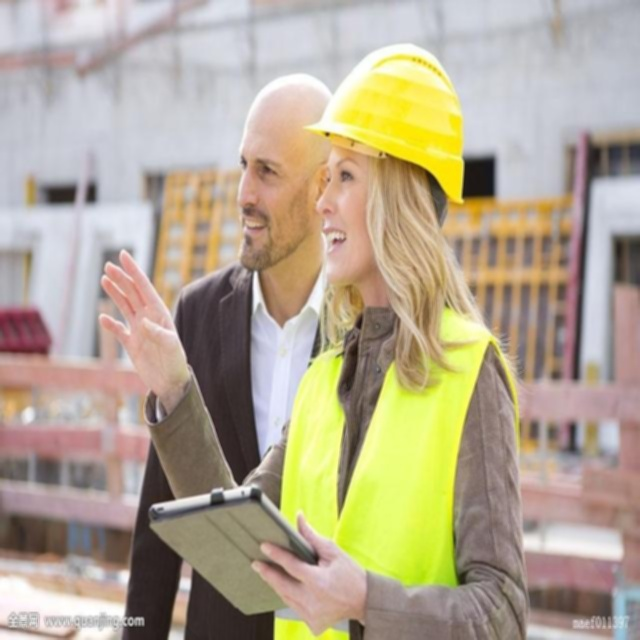Con_Casco: (316, 43, 468, 290)
Con_Chaleco: (279, 320, 509, 632)
